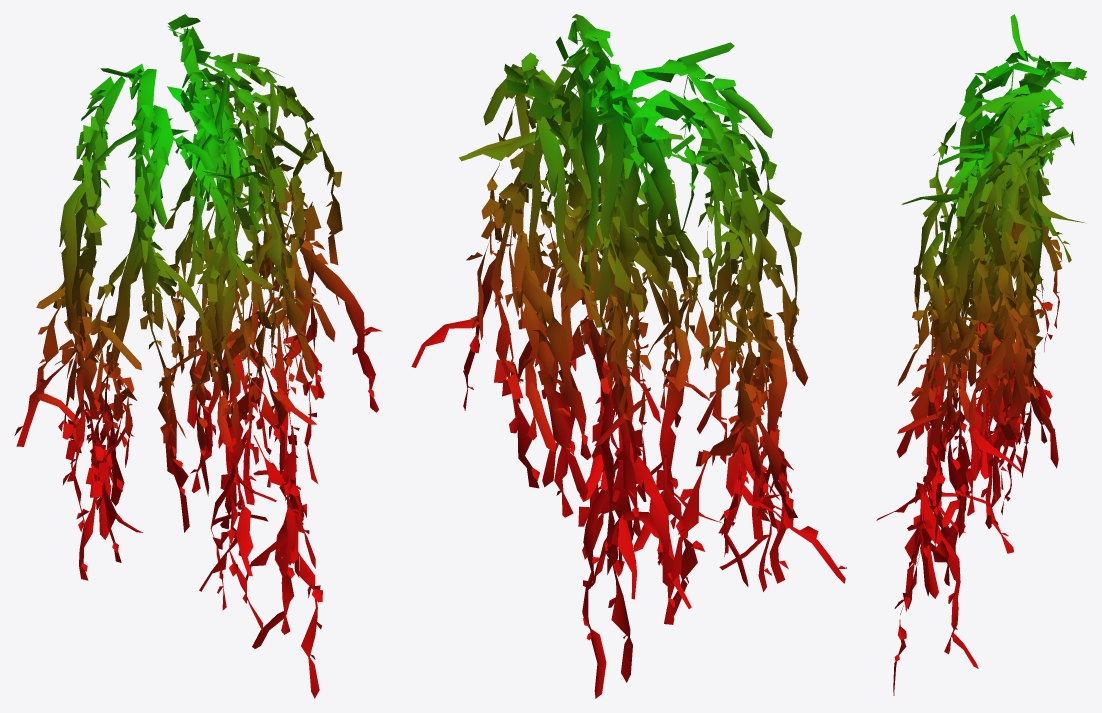
File: Var1_LOD5.fbx
3 views of the same model, side by side, from view 1: azimuth 30°, elevation 25°; view 2: azimuth 150°, elevation 25°; view 3: azimuth 270°, elevation 25° (orthographic). The views are drawn at different scales.
Parts seen in each view (by area): view 1: _zubp_Var1_LOD5; view 2: _zubp_Var1_LOD5; view 3: _zubp_Var1_LOD5.
Part boxes in pixels (x1,y1,x2,y2): _zubp_Var1_LOD5: [14, 14, 382, 698]; _zubp_Var1_LOD5: [411, 14, 846, 698]; _zubp_Var1_LOD5: [876, 14, 1086, 695].
Bounding box in the file's own units: 144 × 256 × 79.12.
